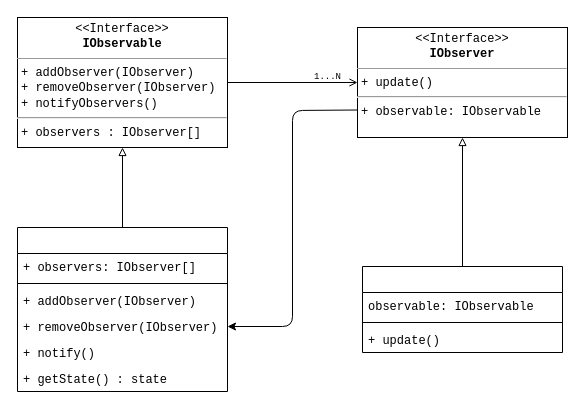
Image size: 585x412. Some labels were removed from this diagram. The shapes that lost their labels are listed below. From the top down, each one's box as (x1, y1, x2, y2) in pixels, then its label:
(16, 226, 228, 392): ConcreteObservable
(362, 266, 562, 352): ConcreteObserver
